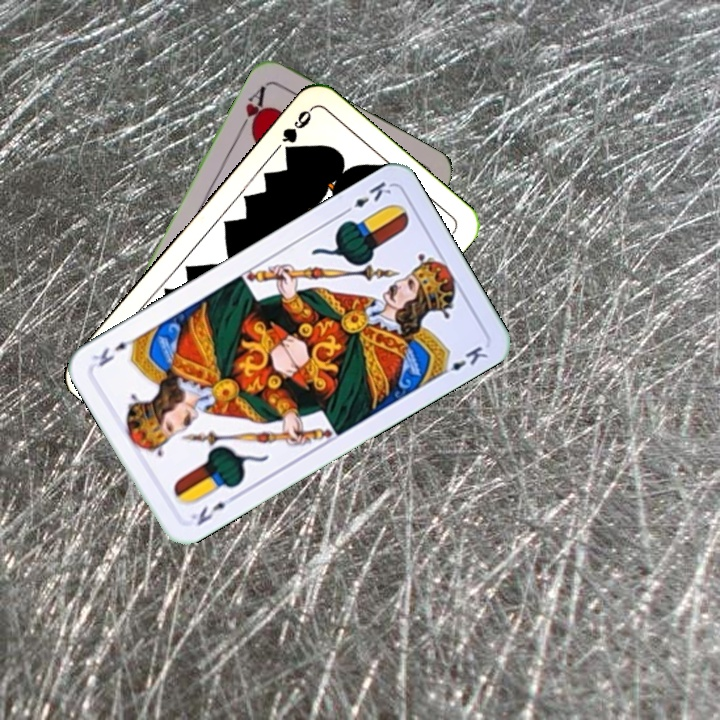EK: (338, 177, 394, 218), (186, 490, 239, 529)
G9: (277, 104, 315, 159)
HA: (235, 81, 269, 137)
